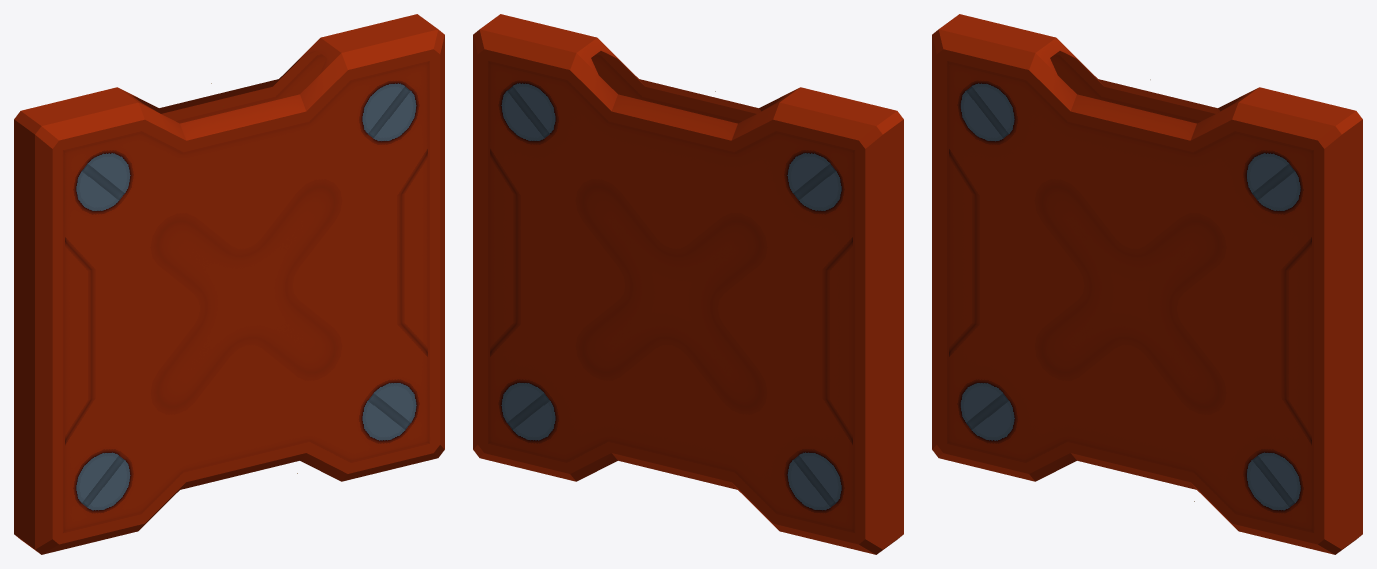
Rendered from obj_factory_building_wall_01.fbx.
3 views of the same model, side by side, from view 1: azimuth 30°, elevation 25°; view 2: azimuth 150°, elevation 25°; view 3: azimuth 330°, elevation 25° (orthographic).
Visible parts, largest first — view 1: obj_factory_building_wall_01_lp; view 2: obj_factory_building_wall_01_lp; view 3: obj_factory_building_wall_01_lp.
Boxes of the visible parts, left/top/right/bottom form: obj_factory_building_wall_01_lp: left=14, top=14, right=444, bottom=554; obj_factory_building_wall_01_lp: left=473, top=14, right=903, bottom=554; obj_factory_building_wall_01_lp: left=932, top=14, right=1362, bottom=554.
Size of the model in its own units: 14 by 14 by 2.
